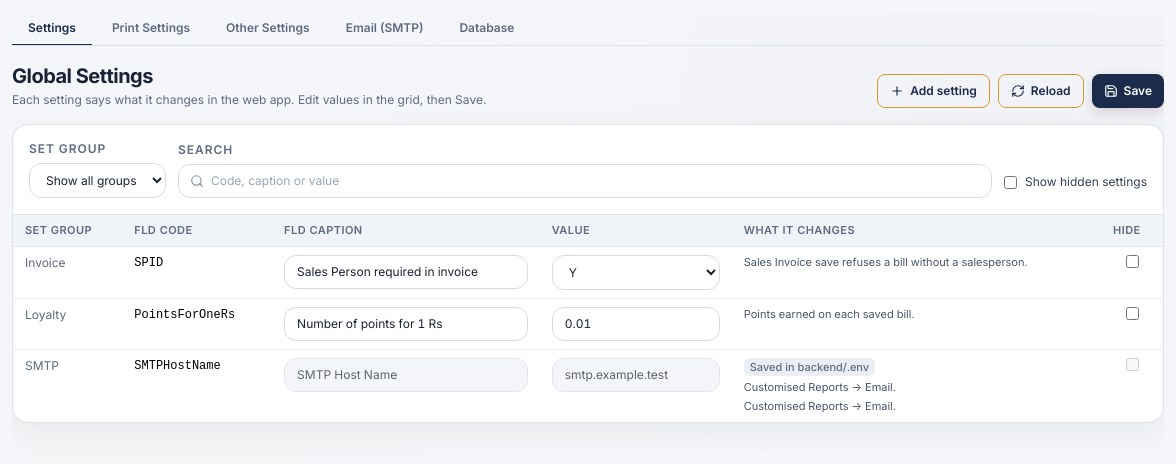
GlobalSettings › shows a wrong number under the value and sends nothing
Replace the text in the field named "Value of PointsForOneRs" with "abc" at (636, 324), box [552,307,720,341]
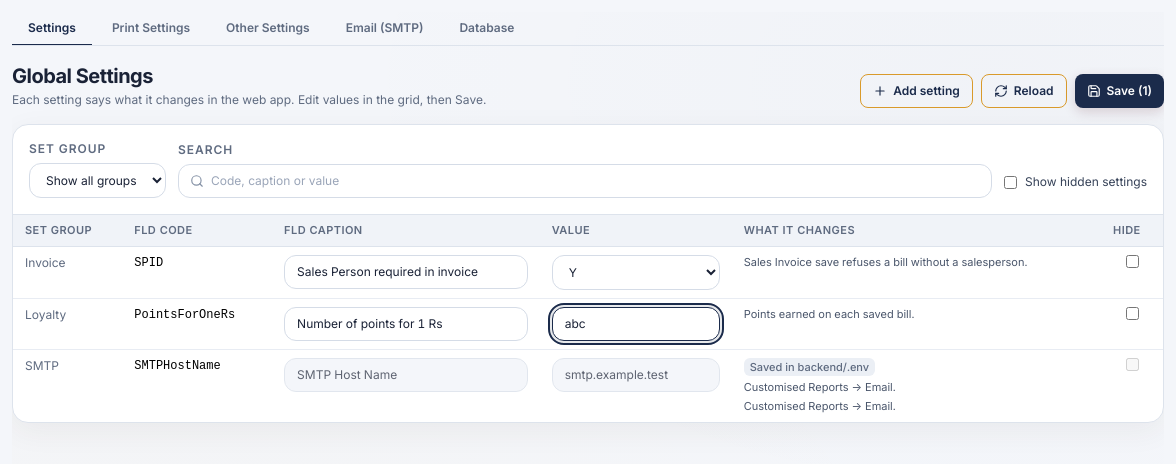
Click the button "Save (1)" at (1119, 91), box [1074,74,1164,108]
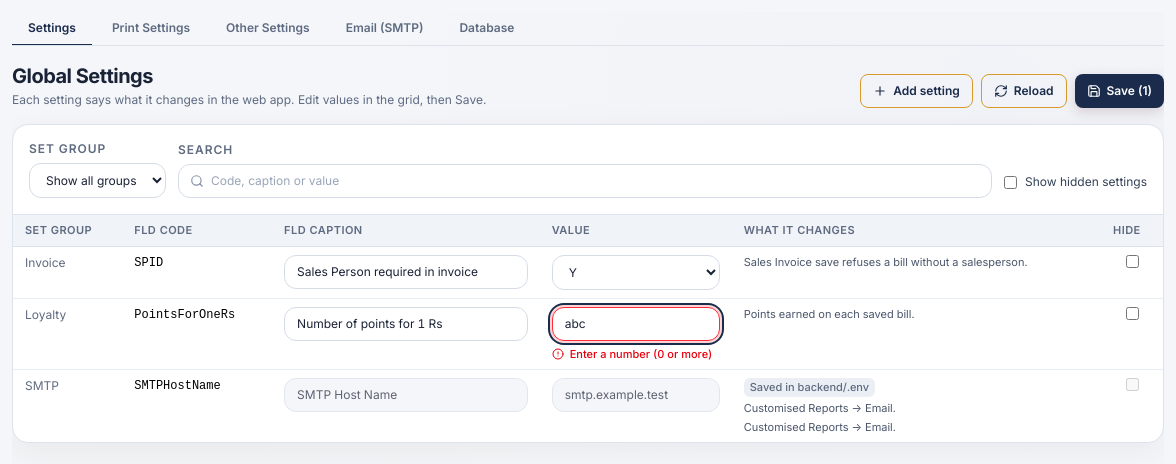
Check: the text "Enter a number (0 or more)" is shown, box [570,347,712,361]
